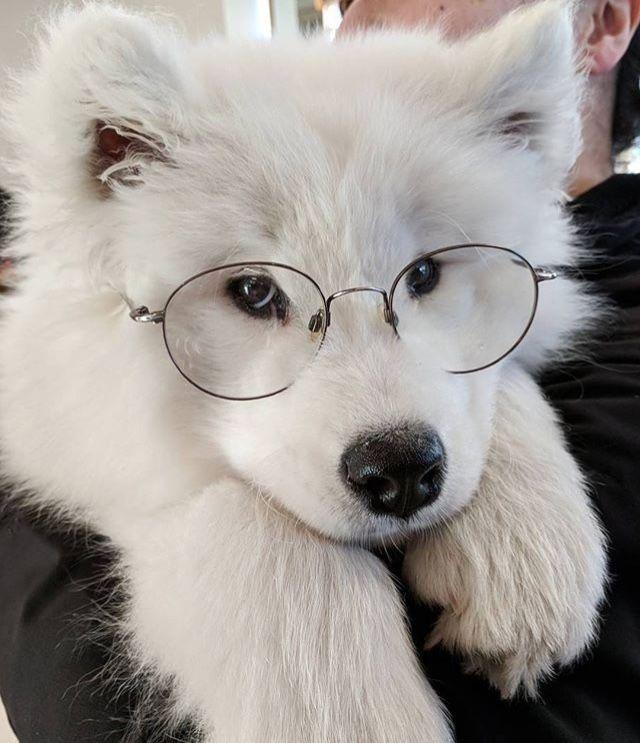puppy-dog: (1, 6, 610, 735)
